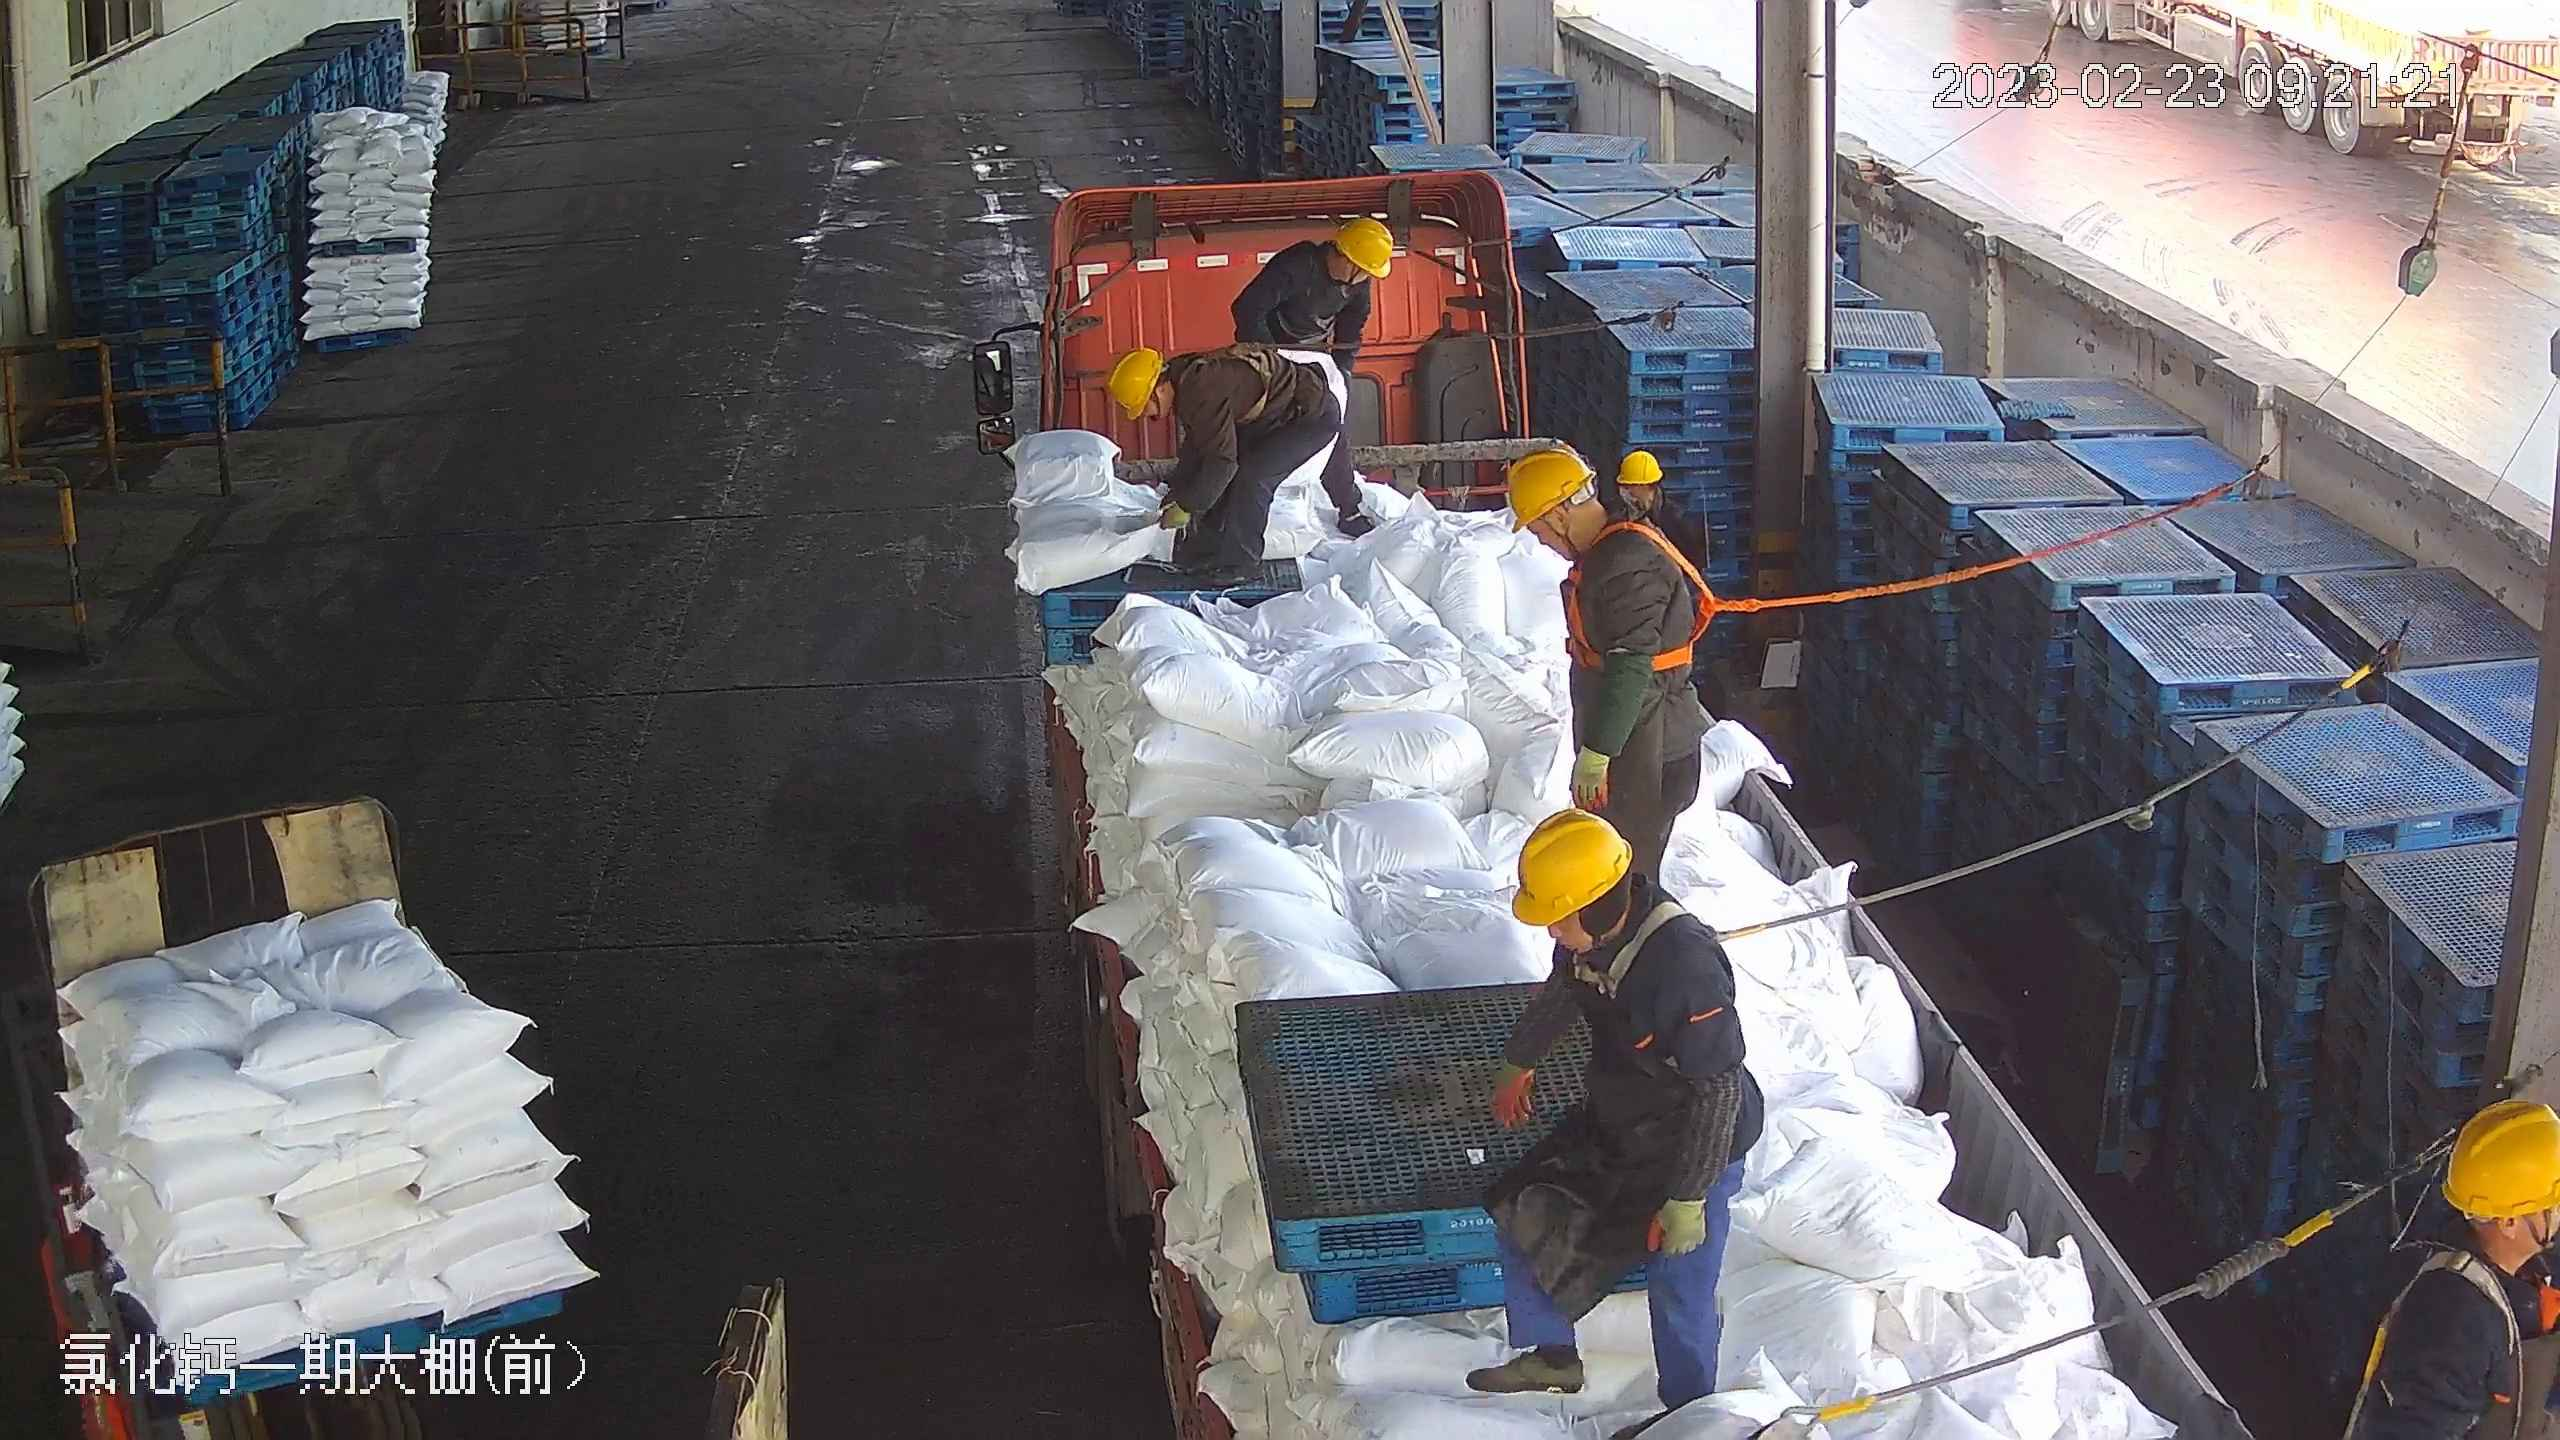belt: (1563, 516, 1738, 683), (1561, 889, 1745, 1033), (2387, 1232, 2517, 1362), (1210, 335, 1286, 421)
head: (1508, 811, 1750, 996), (1508, 447, 1701, 613), (1110, 338, 1254, 430), (1271, 210, 1394, 307)
helmet: (1511, 807, 1633, 925), (2441, 1096, 2559, 1219), (1500, 444, 1597, 530), (1334, 209, 1405, 280), (1102, 341, 1165, 416), (1612, 446, 1667, 487)
people: (1489, 810, 1765, 1416), (1504, 439, 1731, 903), (1109, 340, 1333, 596)
truck: (987, 179, 2263, 1422)
